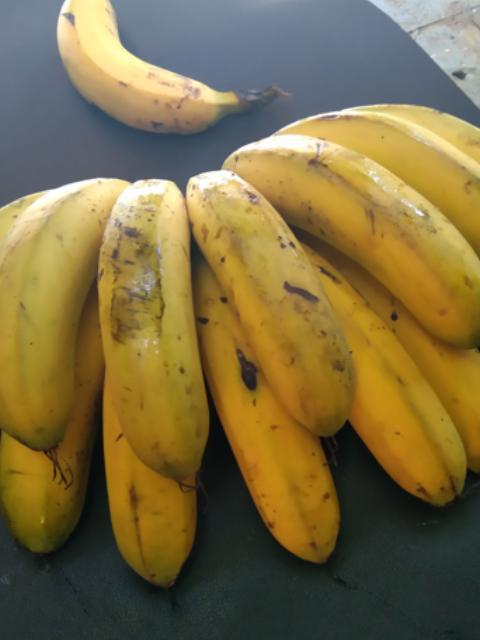ripe: (169, 151, 372, 433), (253, 131, 479, 340), (96, 172, 219, 493), (0, 190, 120, 458), (37, 0, 237, 143), (336, 300, 469, 506), (217, 344, 339, 555), (94, 399, 208, 597)
